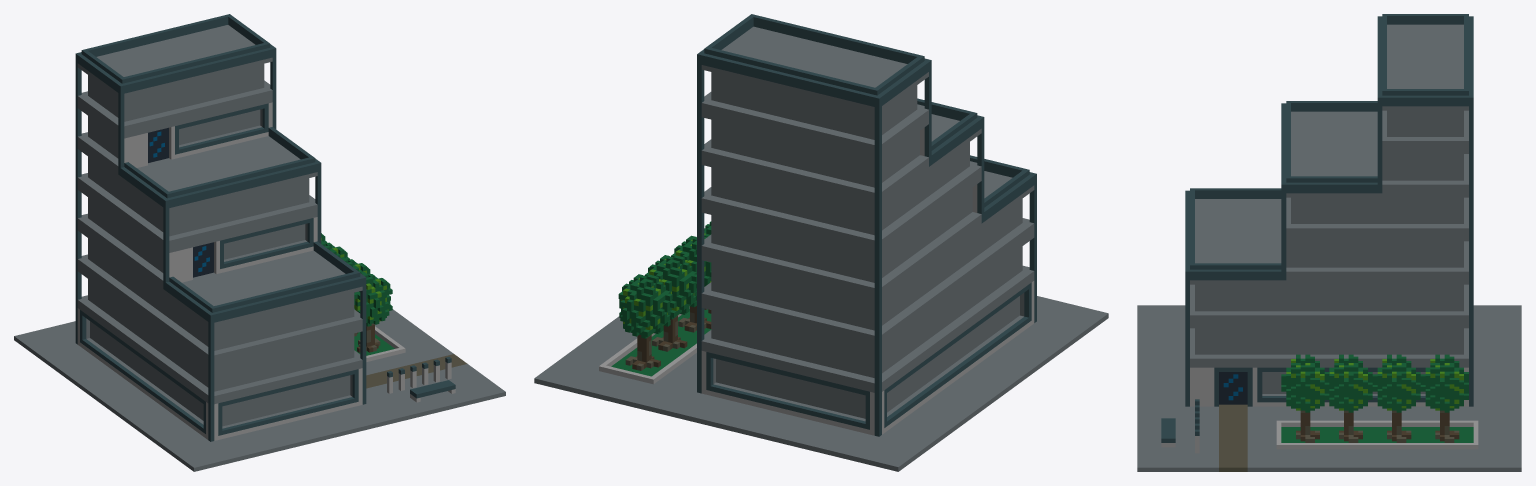
File: building_big_4_overtile.obj
3 views of the same model, side by side, from view 1: azimuth 30°, elevation 25°; view 2: azimuth 150°, elevation 25°; view 3: azimuth 270°, elevation 25° (orthographic). The views are drawn at different scales.
Bounding box in the file's own units: 8 × 7.3 × 8.
Materials: 1 (1 with a texture image).
